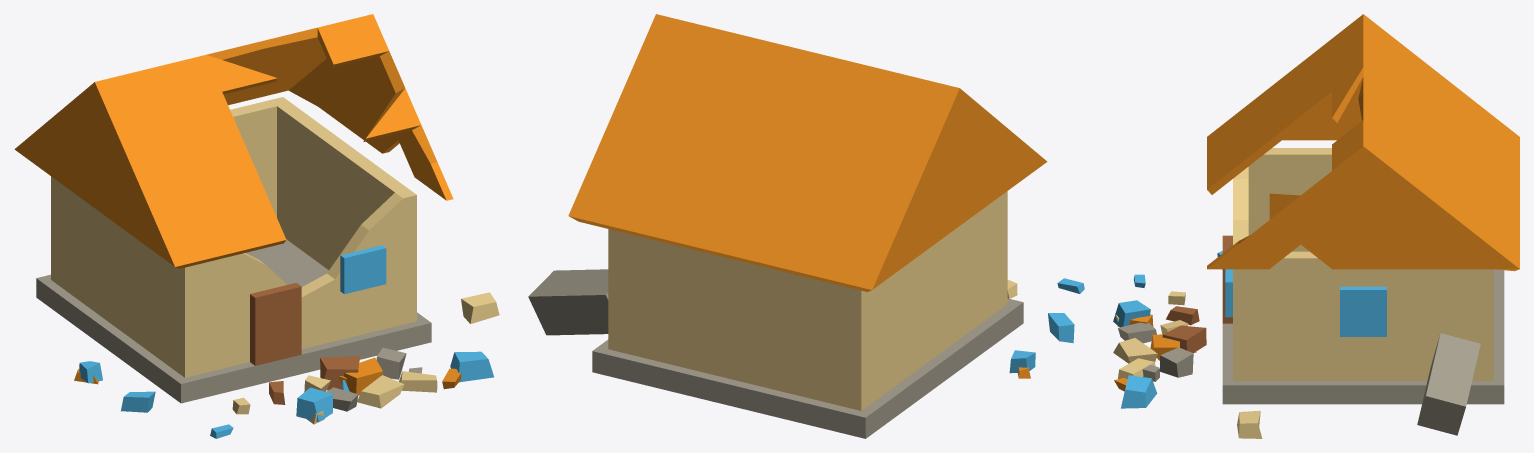
The model's file is house_t1_v1_dmg1.glb.
3 renders of one model, left to right at view 1: azimuth 30°, elevation 25°; view 2: azimuth 150°, elevation 25°; view 3: azimuth 270°, elevation 25°, orthographic. The views are drawn at different scales.
Parts seen in each view (by area): view 1: house_t1_v1_dmg1; view 2: house_t1_v1_dmg1; view 3: house_t1_v1_dmg1.
Boxes of the visible parts, x1,y1,x2,y2 form: house_t1_v1_dmg1: [14, 14, 499, 438]; house_t1_v1_dmg1: [528, 14, 1084, 438]; house_t1_v1_dmg1: [1113, 14, 1519, 438].
Bounding box in the file's own units: 0.8315 × 0.56 × 0.78.
Materials: 1 (1 with a texture image).
